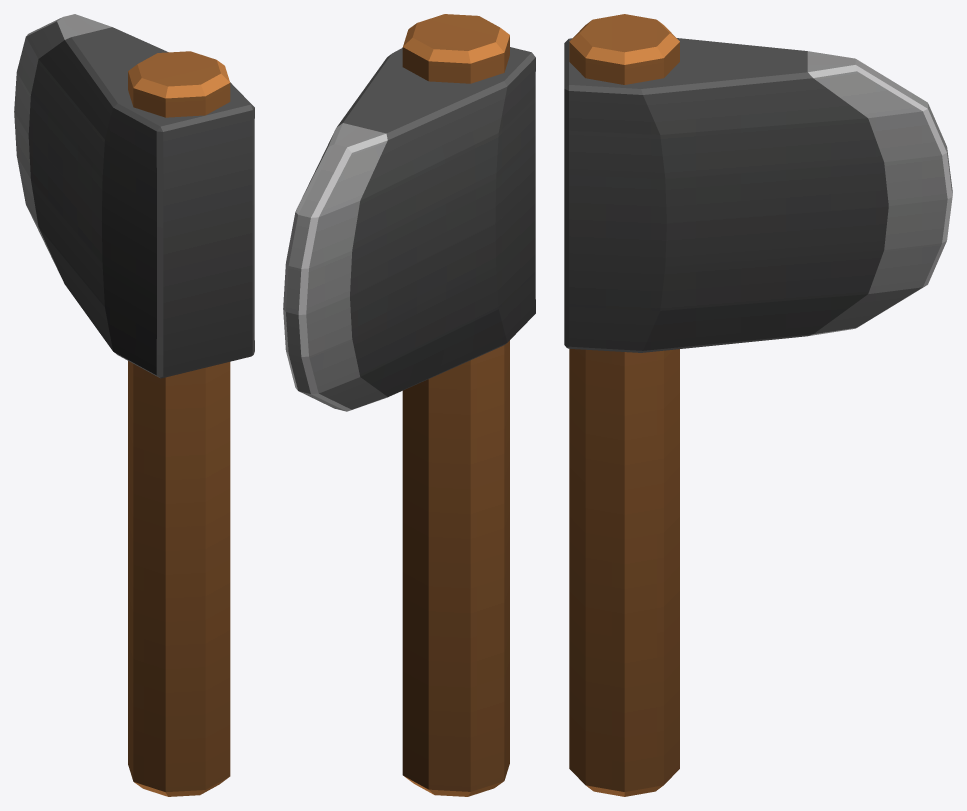
The model's file is Axe.fbx.
The picture shows the model from 3 angles, left to right: view 1: azimuth 30°, elevation 25°; view 2: azimuth 150°, elevation 25°; view 3: azimuth 270°, elevation 25°; orthographic projection. The views are drawn at different scales.
Visible parts, largest first — view 1: Axe; view 2: Axe; view 3: Axe.
Part boxes in pixels (left/top/right/bottom): Axe: left=14, top=14, right=254, bottom=796; Axe: left=283, top=14, right=535, bottom=796; Axe: left=564, top=14, right=952, bottom=796.
Bounding box in the file's own units: 45.4 × 269 × 127.
Materials: 1 (1 with a texture image).
